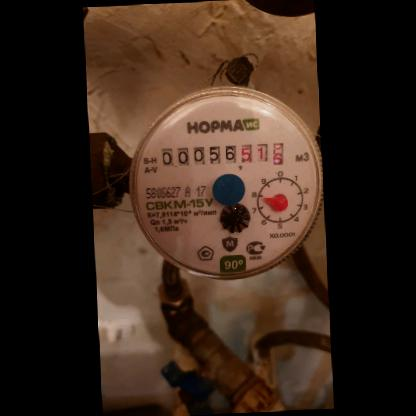digital_screen: (157, 137, 237, 172)
